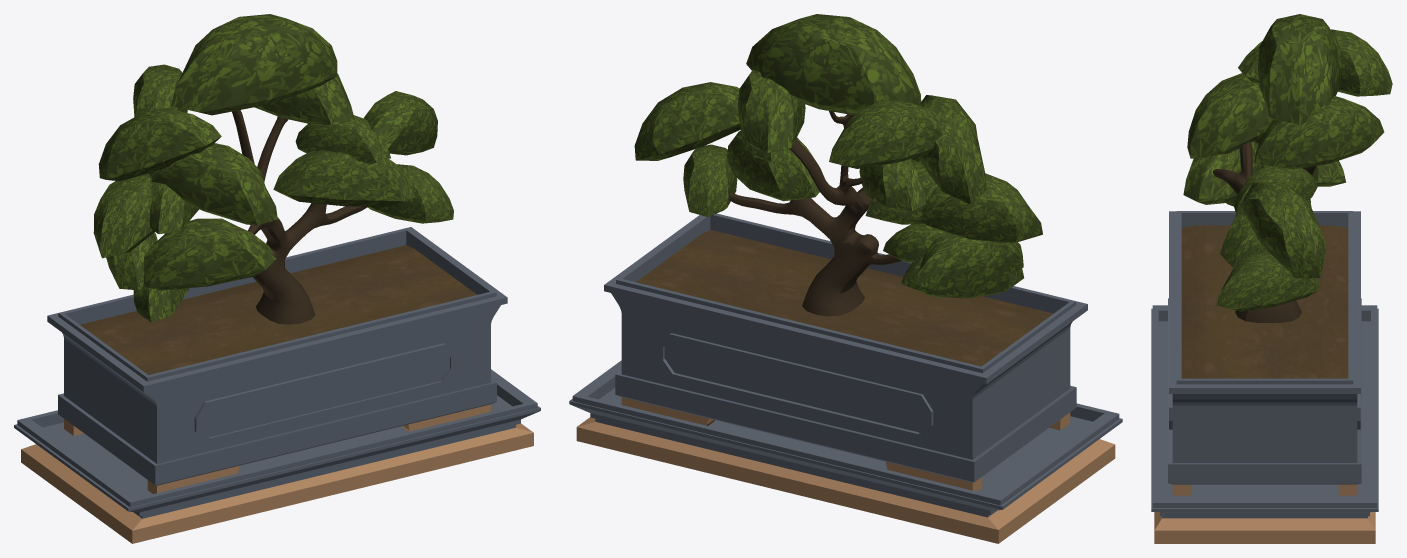
The model's file is classic bonsai.fbx.
3 views of the same model, side by side, from view 1: azimuth 30°, elevation 25°; view 2: azimuth 150°, elevation 25°; view 3: azimuth 270°, elevation 25° (orthographic). The views are drawn at different scales.
Visible parts, largest first — view 1: classic bonsai; view 2: classic bonsai; view 3: classic bonsai.
Boxes of the visible parts, x1,y1,x2,y2 form: classic bonsai: (14, 14, 540, 543); classic bonsai: (569, 14, 1122, 543); classic bonsai: (1151, 14, 1392, 543).
Bounding box in the file's own units: 62.29 × 60.92 × 31.74.
Materials: 4 (4 with a texture image).
